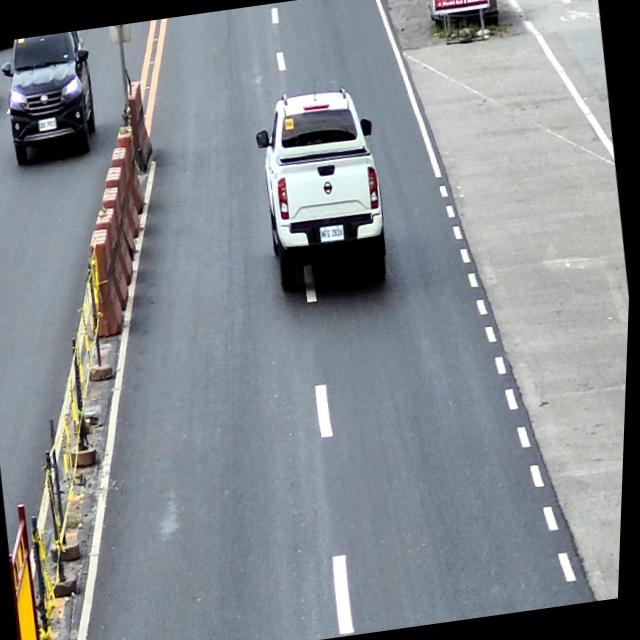Car: (249, 83, 398, 297), (0, 29, 104, 166)
License-Plate: (320, 224, 348, 244), (38, 116, 58, 132)
